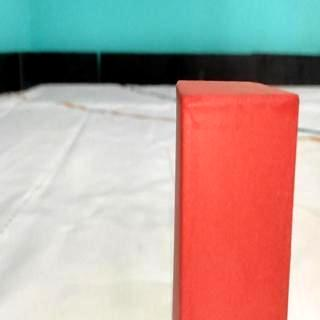redbox: (178, 83, 288, 320)
